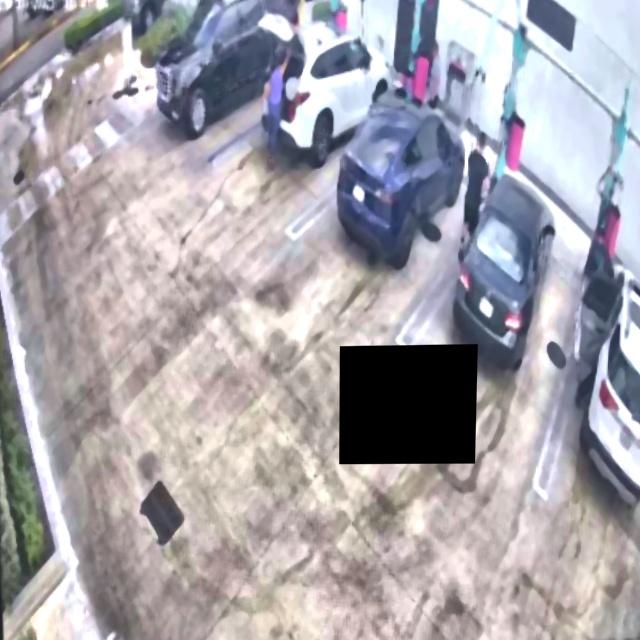Car: (339, 84, 468, 265), (453, 170, 558, 371)
